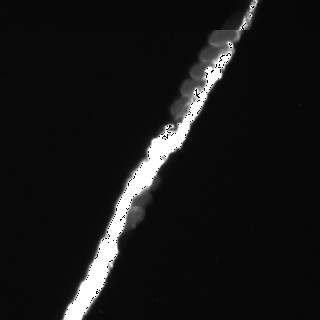embryo: (109, 207, 143, 230), (199, 41, 229, 66), (189, 61, 221, 81), (180, 77, 207, 100), (170, 96, 192, 122), (208, 29, 240, 46), (131, 191, 152, 209), (145, 174, 160, 192)
